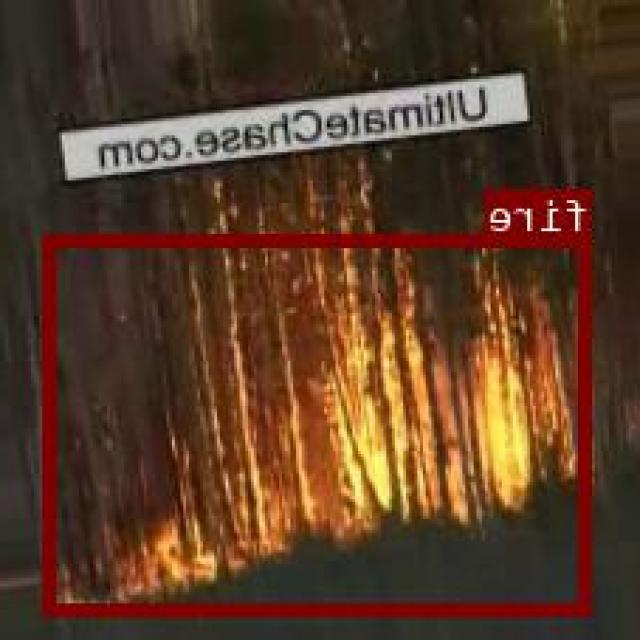fire: (48, 232, 593, 613)
